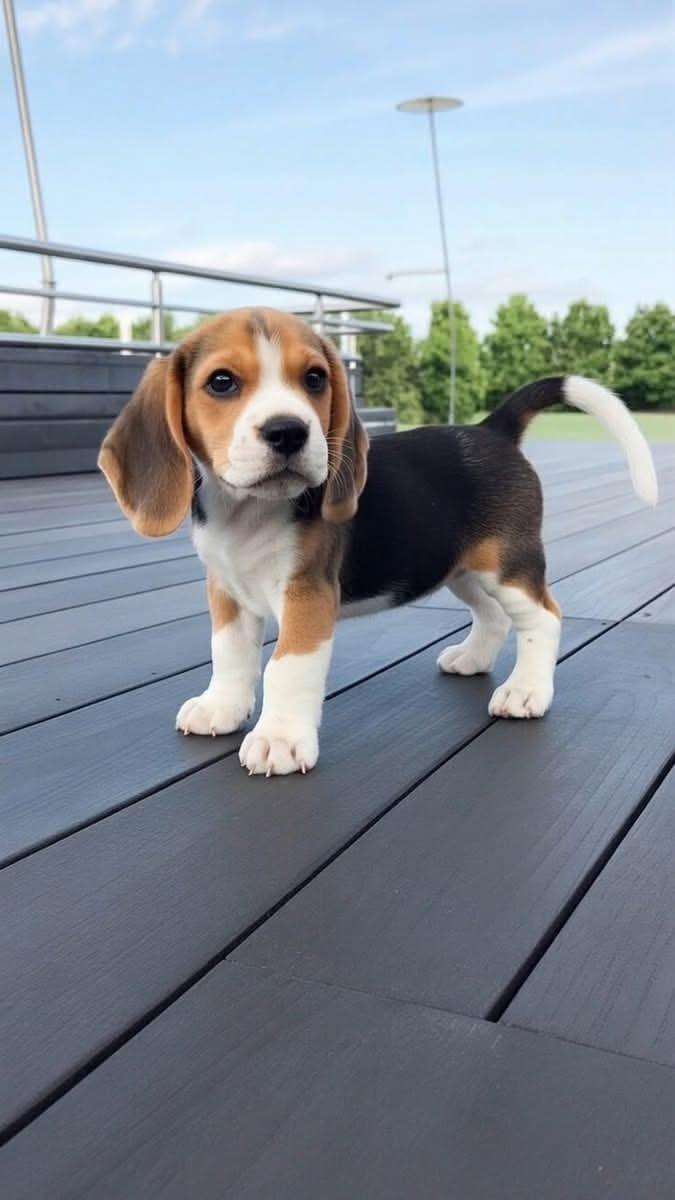puppy-dog: (97, 307, 660, 778)
